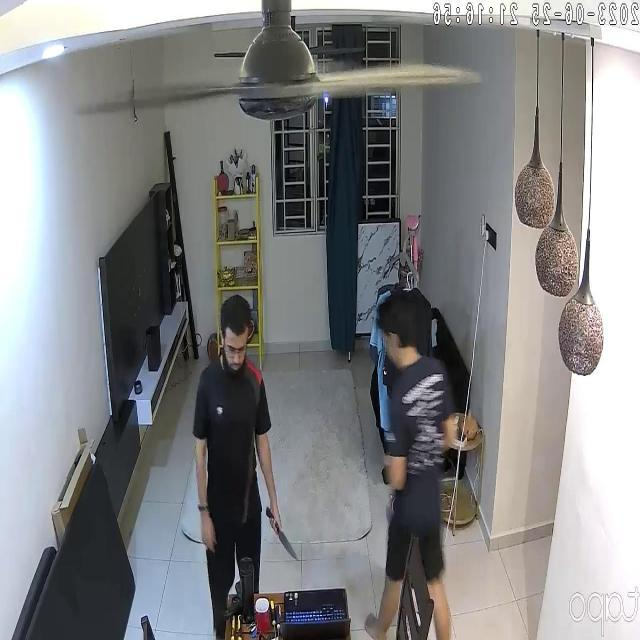Knife: (259, 507, 303, 562)
